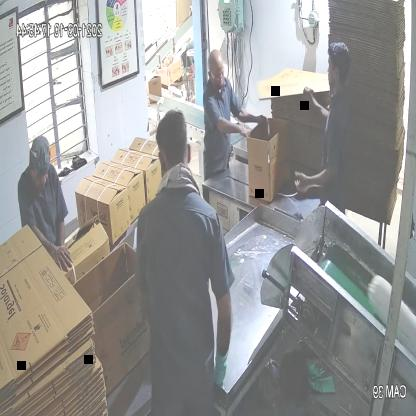glove: (206, 289, 234, 400)
no_glove: (23, 218, 79, 282), (294, 147, 346, 204), (299, 85, 331, 128), (214, 117, 257, 144)
